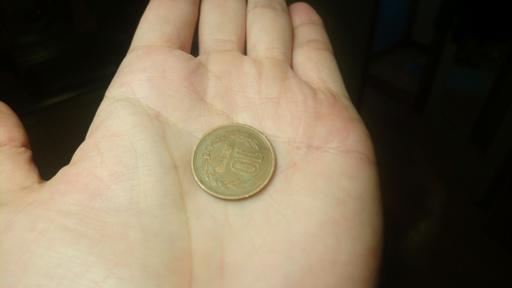10yen: (190, 123, 276, 200)
